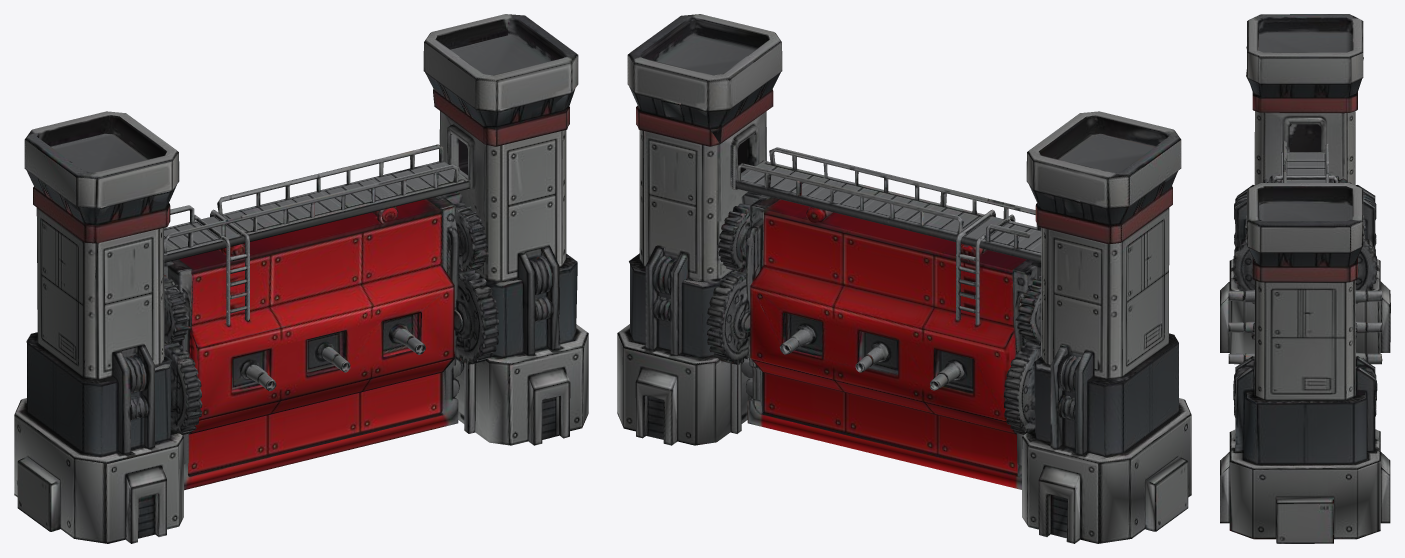
Rendered from torii.glb.
3 views of the same model, side by side, from view 1: azimuth 30°, elevation 25°; view 2: azimuth 150°, elevation 25°; view 3: azimuth 270°, elevation 25° (orthographic). The views are drawn at different scales.
Size of the model in its own units: 0.9575 by 0.6143 by 0.3052.
Materials: 1 (1 with a texture image).
